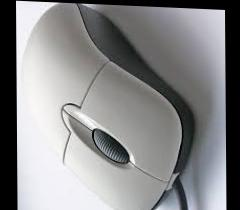mouse: (18, 1, 201, 210)
